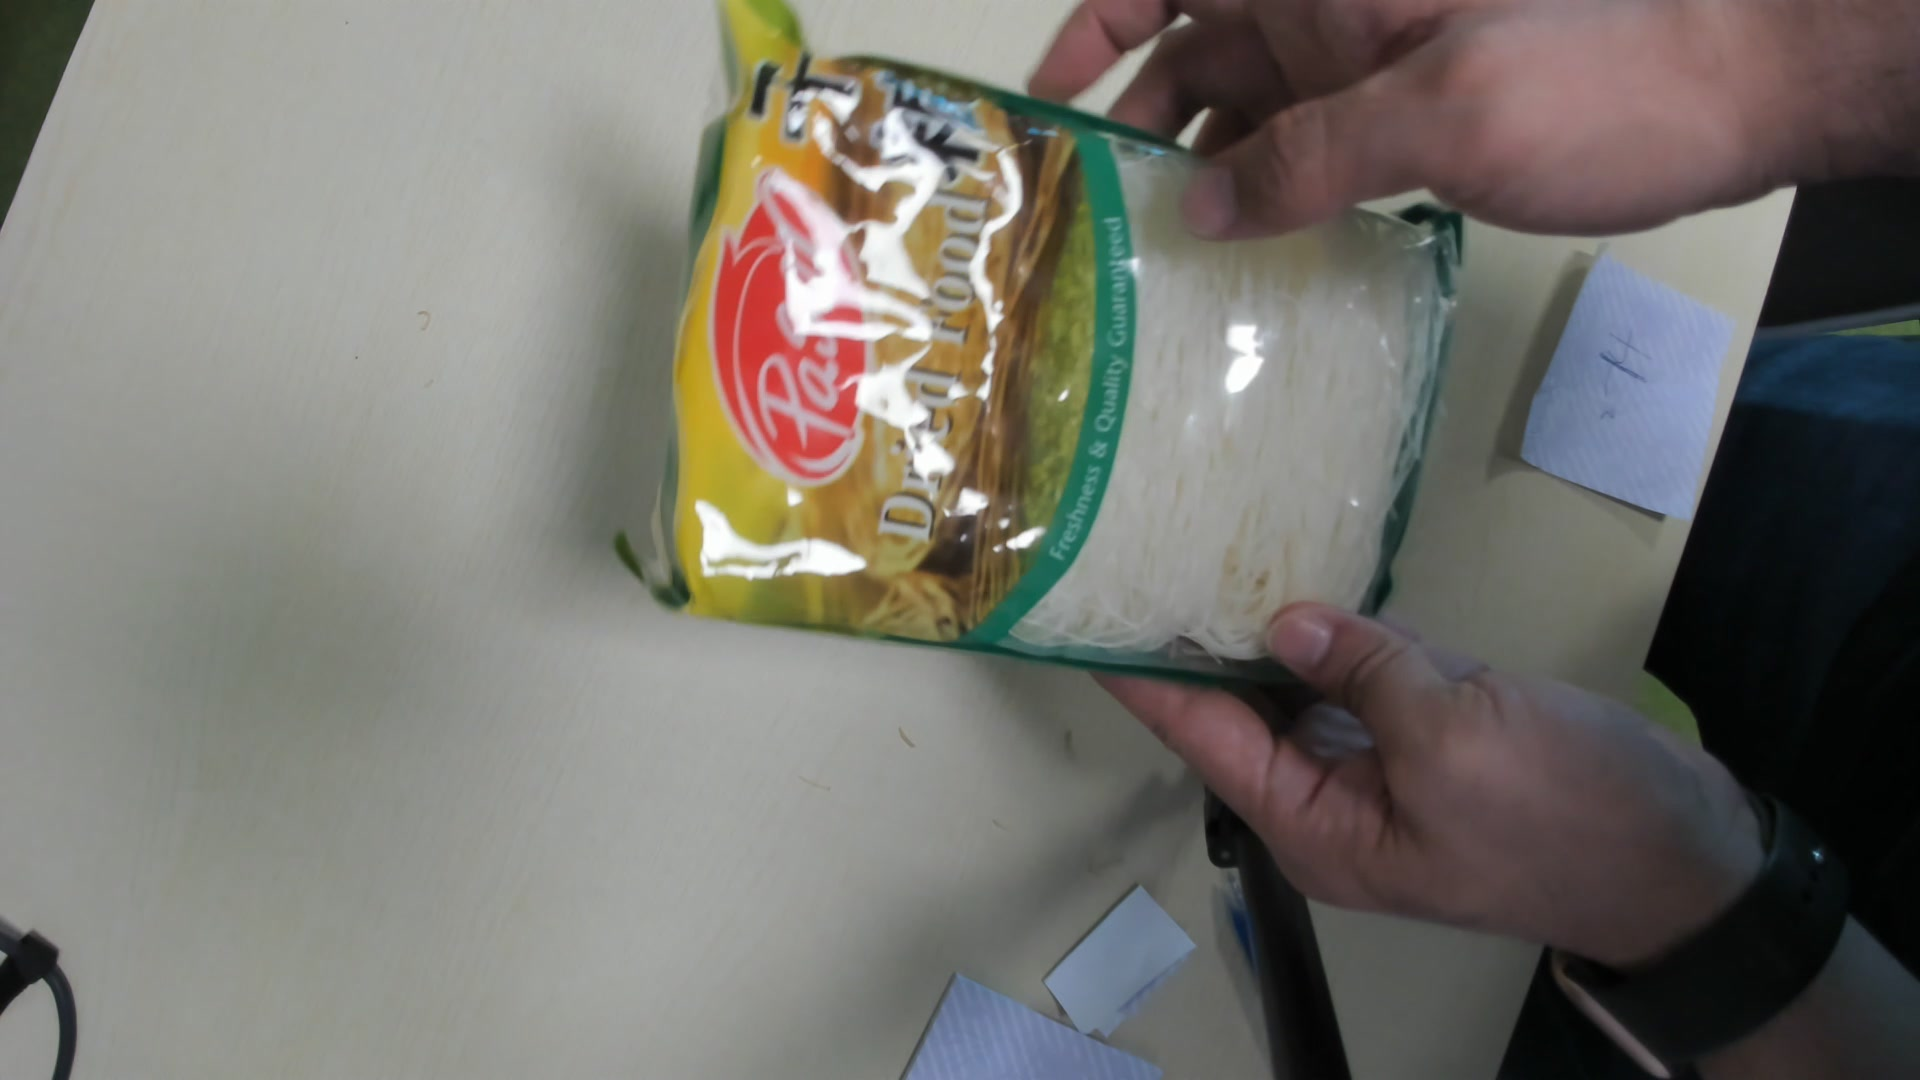BeeHoonVermicelli_100-199g_NonHalal_NonHealthy: (605, 34, 1456, 712)
